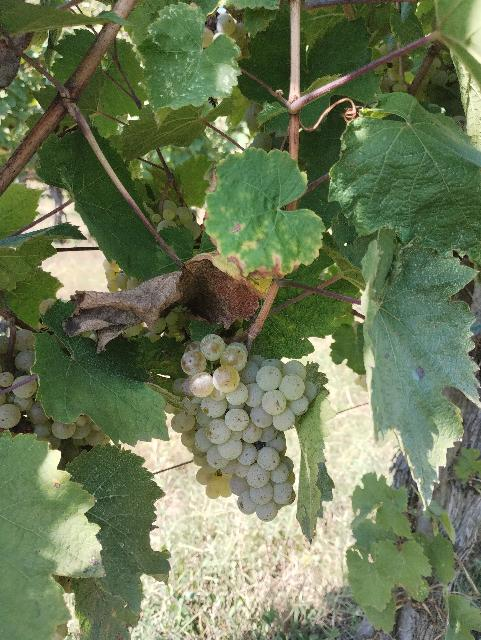grapes: (171, 334, 319, 521)
